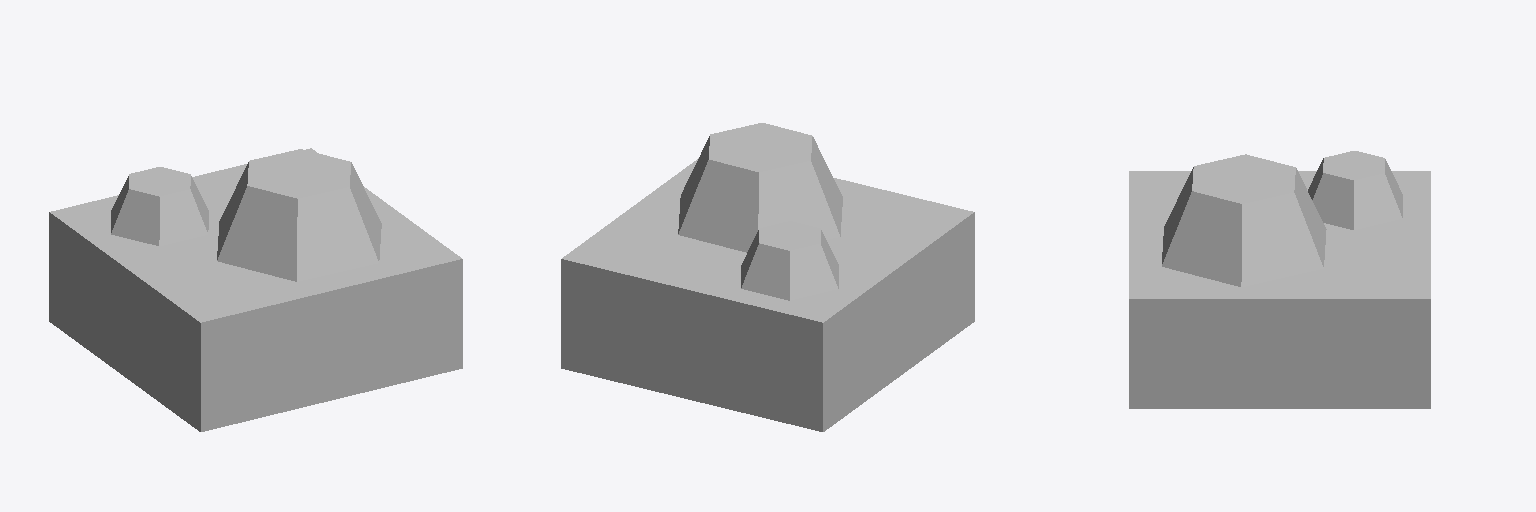
The model's file is tile_073.obj.
3 renders of one model, left to right at view 1: azimuth 30°, elevation 25°; view 2: azimuth 150°, elevation 25°; view 3: azimuth 270°, elevation 25°, orthographic.
Parts seen in each view (by area): view 1: tile_073, Group; view 2: tile_073, Group; view 3: tile_073, Group.
Boxes of the visible parts, x1,y1,x2,y2 form: tile_073: [49, 148, 462, 431]; Group: [111, 149, 381, 281]; tile_073: [561, 158, 974, 431]; Group: [678, 123, 842, 300]; tile_073: [1129, 171, 1430, 408]; Group: [1162, 151, 1402, 286].
Size of the model in its own units: 1 by 0.65 by 1.